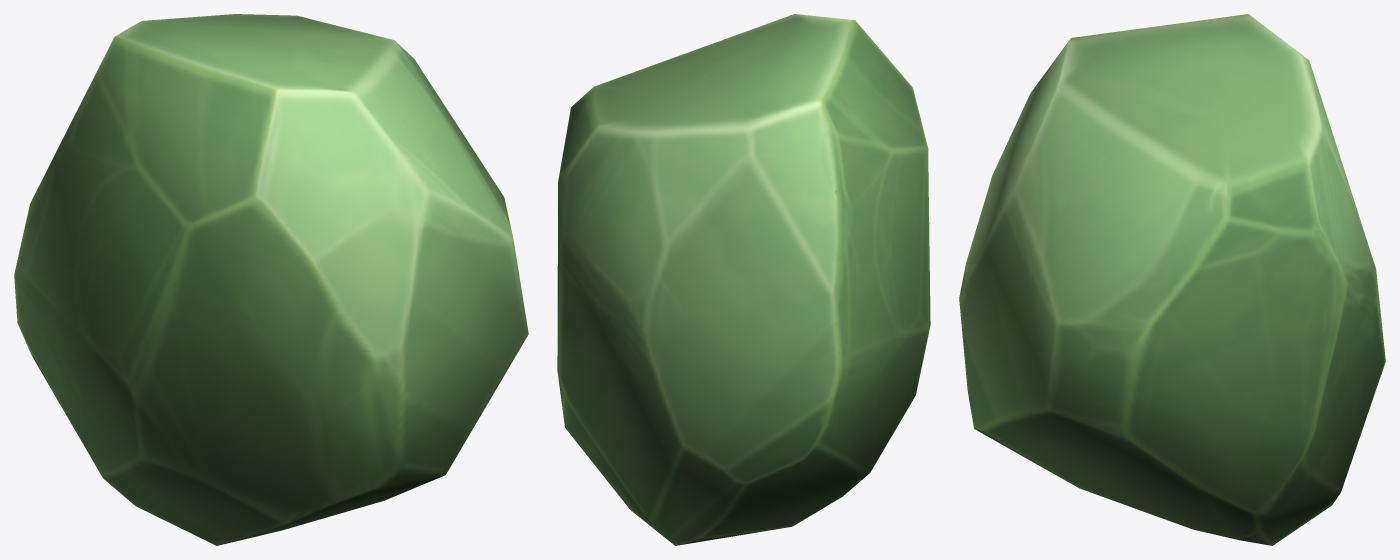
Rendered from SM_Gem_Jade_009.fbx.
The picture shows the model from 3 angles, left to right: view 1: azimuth 30°, elevation 25°; view 2: azimuth 150°, elevation 25°; view 3: azimuth 270°, elevation 25°; orthographic projection. The views are drawn at different scales.
Parts seen in each view (by area): view 1: SM_Gem_Jade_009; view 2: SM_Gem_Jade_009; view 3: SM_Gem_Jade_009.
Part boxes in pixels (x1,y1,x2,y2): SM_Gem_Jade_009: (14, 14, 528, 545); SM_Gem_Jade_009: (557, 14, 930, 545); SM_Gem_Jade_009: (959, 14, 1385, 545).
Bounding box in the file's own units: 33.74 × 40.39 × 34.92.
